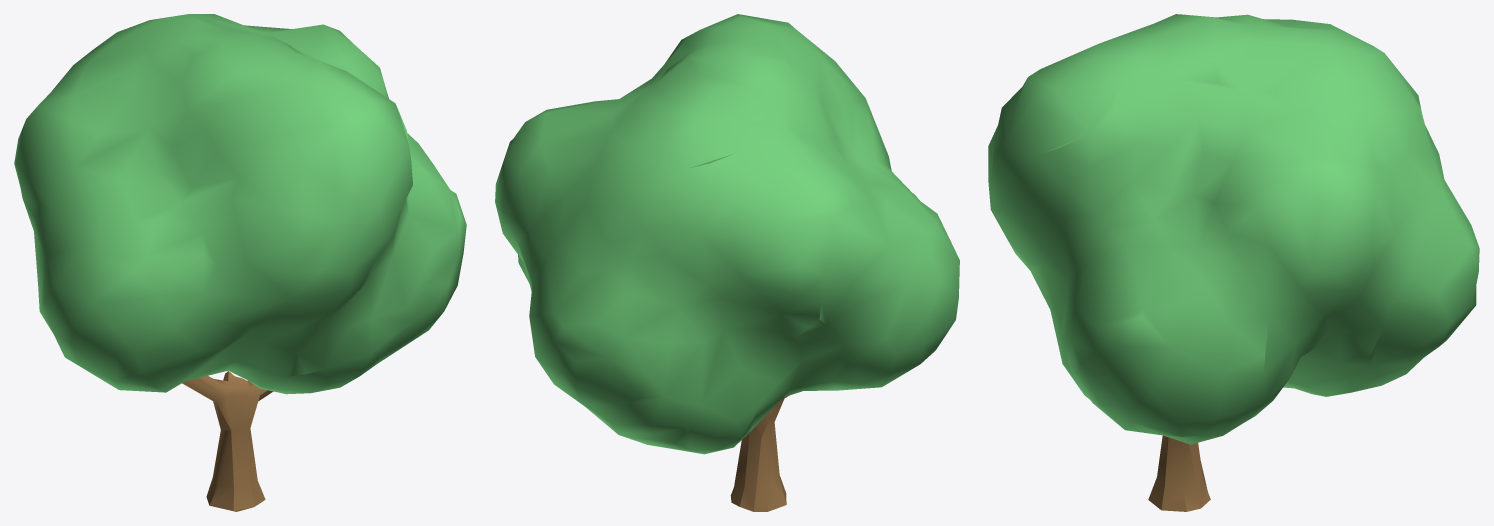
Rendered from maple1.glb.
The picture shows the model from 3 angles, left to right: view 1: azimuth 30°, elevation 25°; view 2: azimuth 150°, elevation 25°; view 3: azimuth 270°, elevation 25°; orthographic projection. The views are drawn at different scales.
Visible parts, largest first — view 1: maple_leaves_1, maple_trunk_1; view 2: maple_leaves_1, maple_trunk_1; view 3: maple_leaves_1, maple_trunk_1.
Boxes of the visible parts, x1,y1,x2,y2 form: maple_leaves_1: (14,14,466,394); maple_trunk_1: (182,371,273,511); maple_leaves_1: (495,14,959,454); maple_trunk_1: (730,395,788,511); maple_leaves_1: (988,14,1479,444); maple_trunk_1: (1148,435,1210,511).
Bounding box in the file's own units: 10.08 × 10.97 × 10.04.
